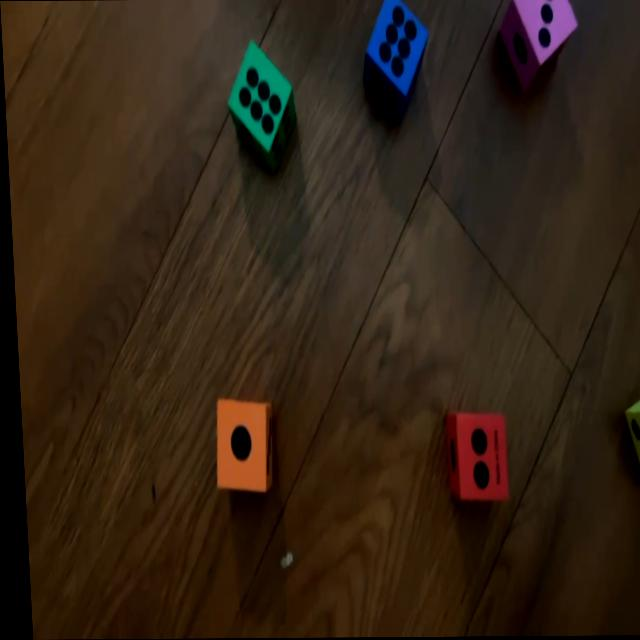blue_block: (357, 0, 433, 128)
red_block: (440, 413, 504, 501)
